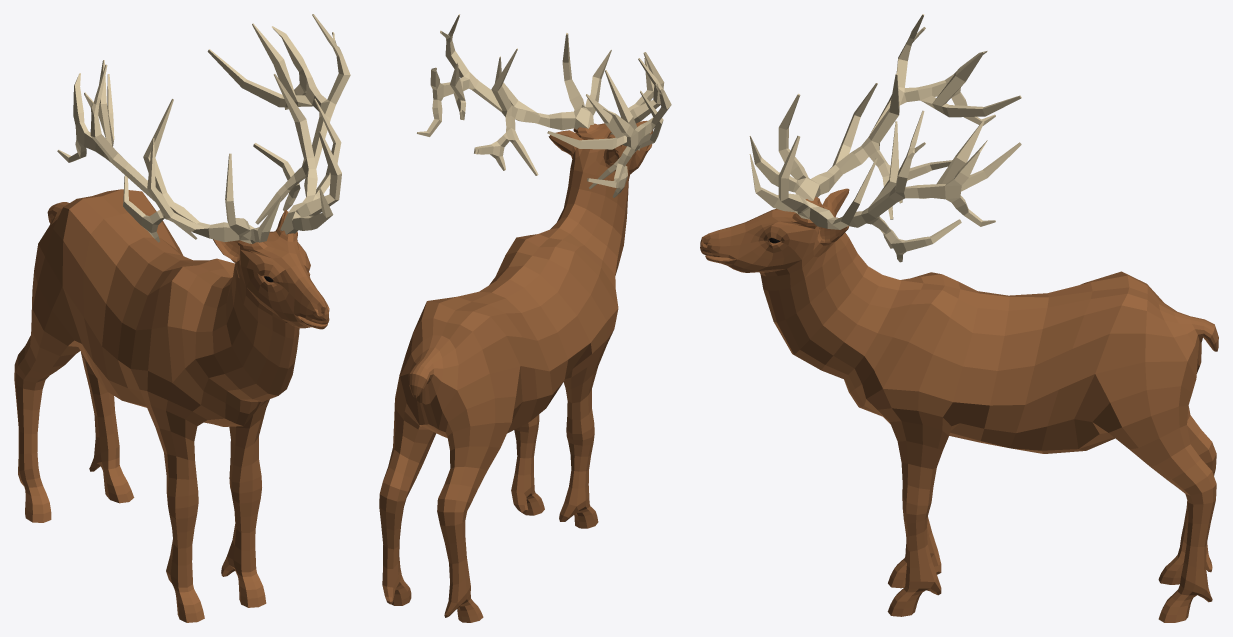
The model's file is Deer.fbx.
3 renders of one model, left to right at view 1: azimuth 30°, elevation 25°; view 2: azimuth 150°, elevation 25°; view 3: azimuth 270°, elevation 25°, orthographic. The views are drawn at different scales.
Visible parts, largest first — view 1: Body, Head, LegBL, LegFL, LegFR, LegBR, Tail1; view 2: Body, LegBL, Tail1, LegBR, LegFL, Head, LegFR; view 3: Body, LegBR, Head, LegFR, Tail1, LegBL, LegFL.
Boxes of the visible parts, x1,y1,x2,y2 form: Body: [37, 14, 350, 404]; Head: [208, 131, 341, 401]; LegBL: [14, 270, 146, 522]; LegFL: [131, 369, 251, 622]; LegFR: [221, 399, 269, 607]; LegBR: [81, 352, 134, 503]; Tail1: [34, 202, 69, 283]; Body: [413, 14, 671, 398]; LegBL: [429, 332, 590, 622]; Tail1: [396, 318, 494, 429]; LegBR: [379, 380, 447, 605]; LegFL: [559, 309, 618, 528]; Head: [561, 33, 664, 265]; LegFR: [511, 414, 544, 515]; Body: [819, 14, 1147, 405]; LegBR: [949, 366, 1216, 622]; Head: [700, 93, 843, 370]; LegFR: [844, 375, 959, 616]; Tail1: [1145, 284, 1218, 392]; LegBL: [1158, 406, 1216, 584]; LegFL: [888, 517, 941, 588].
Size of the model in its own units: 2.6 by 5.48 by 4.8.
1 material, 1 textured.
